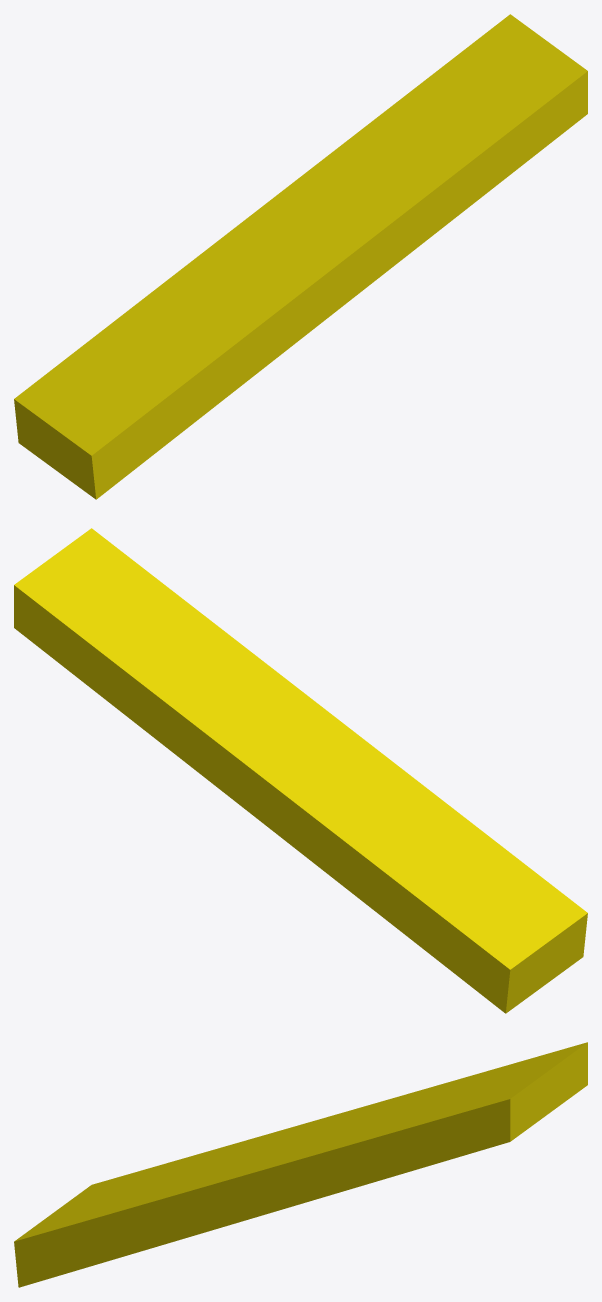
The model's file is Bastion_Stair_01_Lod1.fbx.
3 views of the same model, one above another, from view 1: azimuth 30°, elevation 25°; view 2: azimuth 150°, elevation 25°; view 3: azimuth 330°, elevation 25° (orthographic).
Parts seen in each view (by area): view 1: Bastion_Stair_01_Lod1; view 2: Bastion_Stair_01_Lod1; view 3: Bastion_Stair_01_Lod1.
Boxes of the visible parts, x1,y1,x2,y2 form: Bastion_Stair_01_Lod1: (14, 14, 587, 499); Bastion_Stair_01_Lod1: (14, 528, 587, 1013); Bastion_Stair_01_Lod1: (14, 1042, 587, 1287).
Size of the model in its own units: 590 by 351 by 160.
